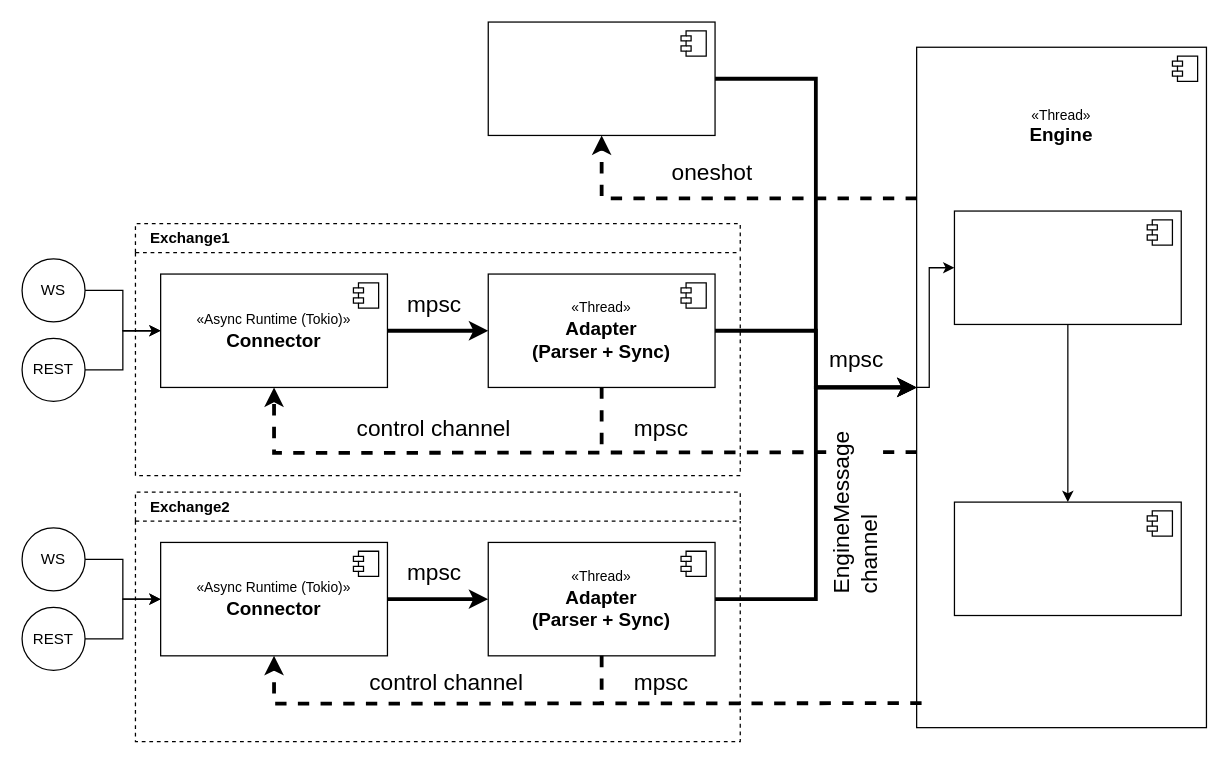
Some shapes in this 1229 by 764 pixel diagram are drawn without their labels. The shapes that lost their labels are listed below. From the top down, each one's centre as x and y in pixels, then its label:
At point 601,78: "«Thread» CLI".
At point 1067,267: "Exchange1 State".
At point 1067,558: "Instrument X Book".
